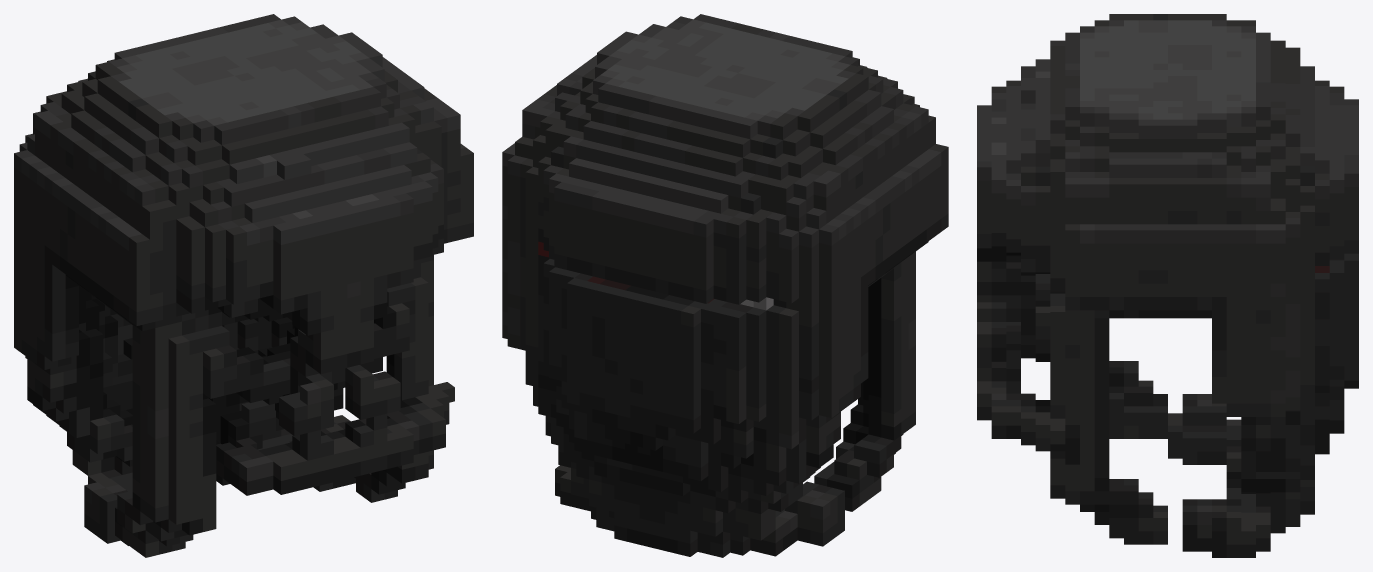
File: plate_voile.glb
3 renders of one model, left to right at view 1: azimuth 30°, elevation 25°; view 2: azimuth 150°, elevation 25°; view 3: azimuth 270°, elevation 25°, orthographic. The views are drawn at different scales.
Visible parts, largest first — view 1: model; view 2: model; view 3: model.
Part boxes in pixels (bbox=[...]): model: bbox=[14, 14, 473, 557]; model: bbox=[502, 14, 948, 557]; model: bbox=[977, 14, 1358, 557].
Size of the model in its own units: 0.832 by 1.02 by 0.832.
Materials: 1 (1 with a texture image).
